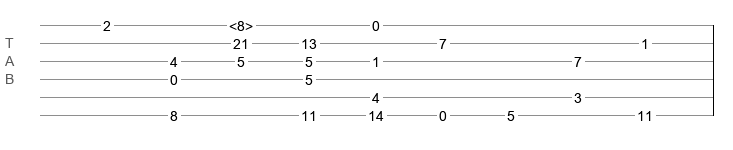0: (170, 72, 178, 82), (372, 18, 380, 28), (439, 108, 447, 118)
1: (372, 54, 380, 64), (641, 36, 649, 46)
11: (301, 108, 317, 118), (637, 108, 653, 118)
13: (301, 36, 317, 46)
14: (368, 108, 384, 118)
2: (103, 18, 111, 28)
21: (233, 36, 249, 46)
3: (574, 90, 582, 100)
4: (170, 54, 178, 64), (372, 90, 380, 100)
5: (237, 54, 245, 64), (305, 54, 313, 64), (305, 72, 313, 82), (507, 108, 515, 118)
7: (439, 36, 447, 46), (574, 54, 582, 64)
8: (170, 108, 178, 118)
harmonic: (229, 18, 253, 28)
